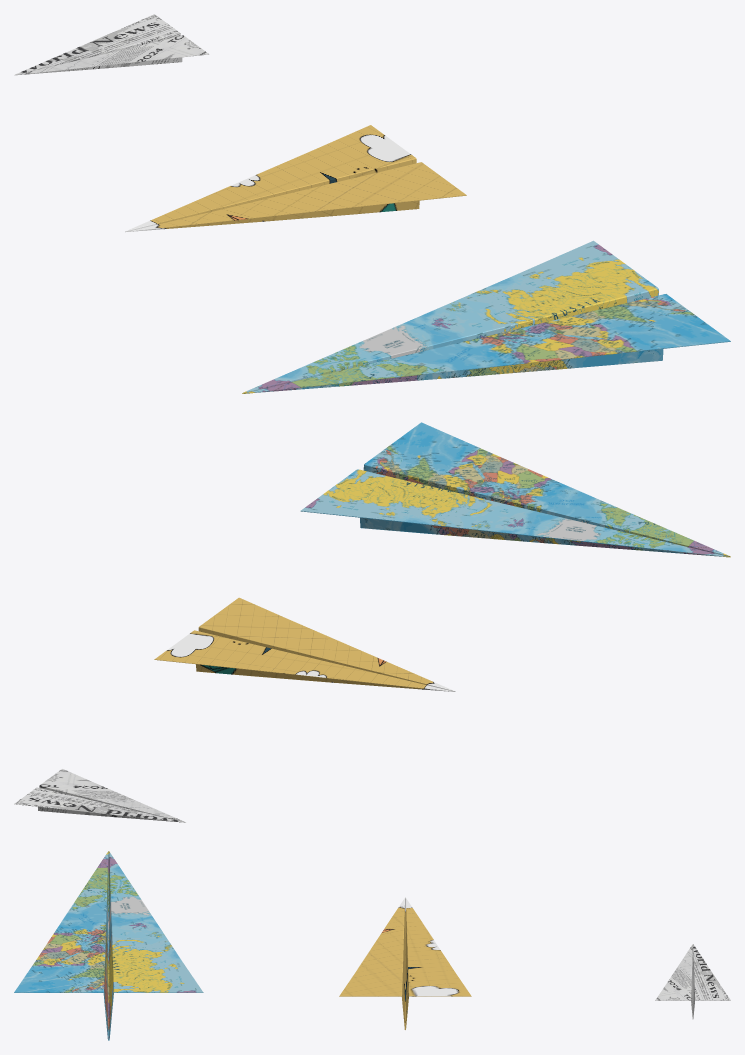
The model's file is Paper_plane.fbx.
3 views of the same model, one above another, from view 1: azimuth 30°, elevation 25°; view 2: azimuth 150°, elevation 25°; view 3: azimuth 270°, elevation 25° (orthographic). The views are drawn at different scales.
Parts seen in each view (by area): view 1: Paper_Plane3, Paper_Plane2, Paper_Plane1; view 2: Paper_Plane3, Paper_Plane2, Paper_Plane1; view 3: Paper_Plane3, Paper_Plane2, Paper_Plane1.
Part boxes in pixels (left/top/right/bottom): Paper_Plane3: left=242, top=240, right=730, bottom=393; Paper_Plane2: left=125, top=125, right=466, bottom=232; Paper_Plane1: left=14, top=14, right=209, bottom=75; Paper_Plane3: left=300, top=422, right=730, bottom=557; Paper_Plane2: left=154, top=597, right=455, bottom=691; Paper_Plane1: left=14, top=769, right=185, bottom=822; Paper_Plane3: left=14, top=851, right=203, bottom=1040; Paper_Plane2: left=339, top=897, right=471, bottom=1029; Paper_Plane1: left=655, top=944, right=730, bottom=1019.
Bounding box in the file's own units: 8.09 × 1.29 × 17.32.
Materials: 3 (3 with a texture image).
